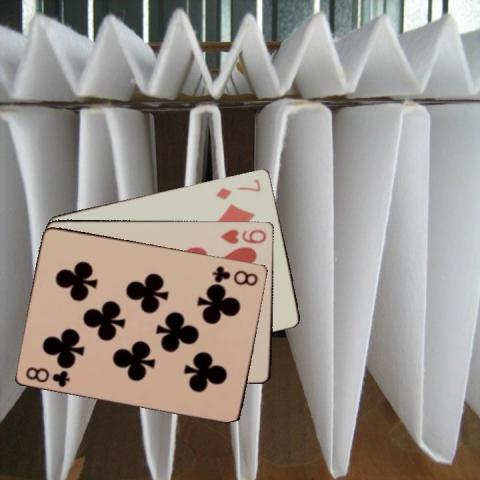7d: (213, 175, 262, 201)
8c: (23, 363, 71, 389), (209, 263, 260, 287)
9h: (217, 226, 268, 245)
